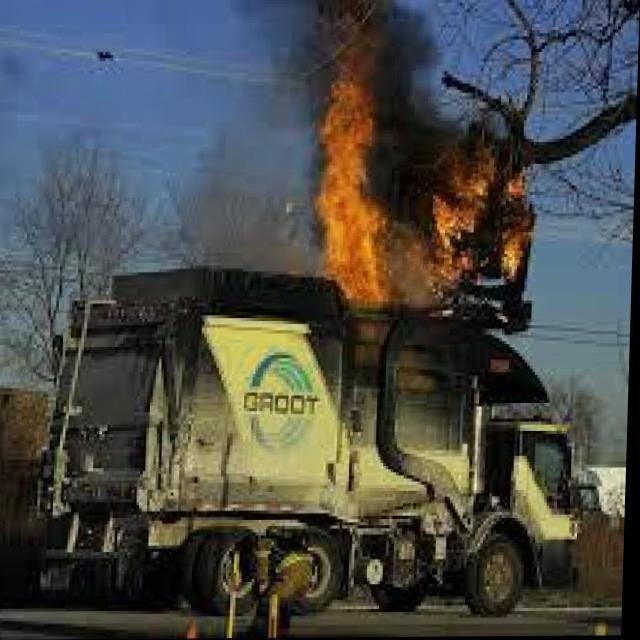fire: (308, 62, 557, 328)
